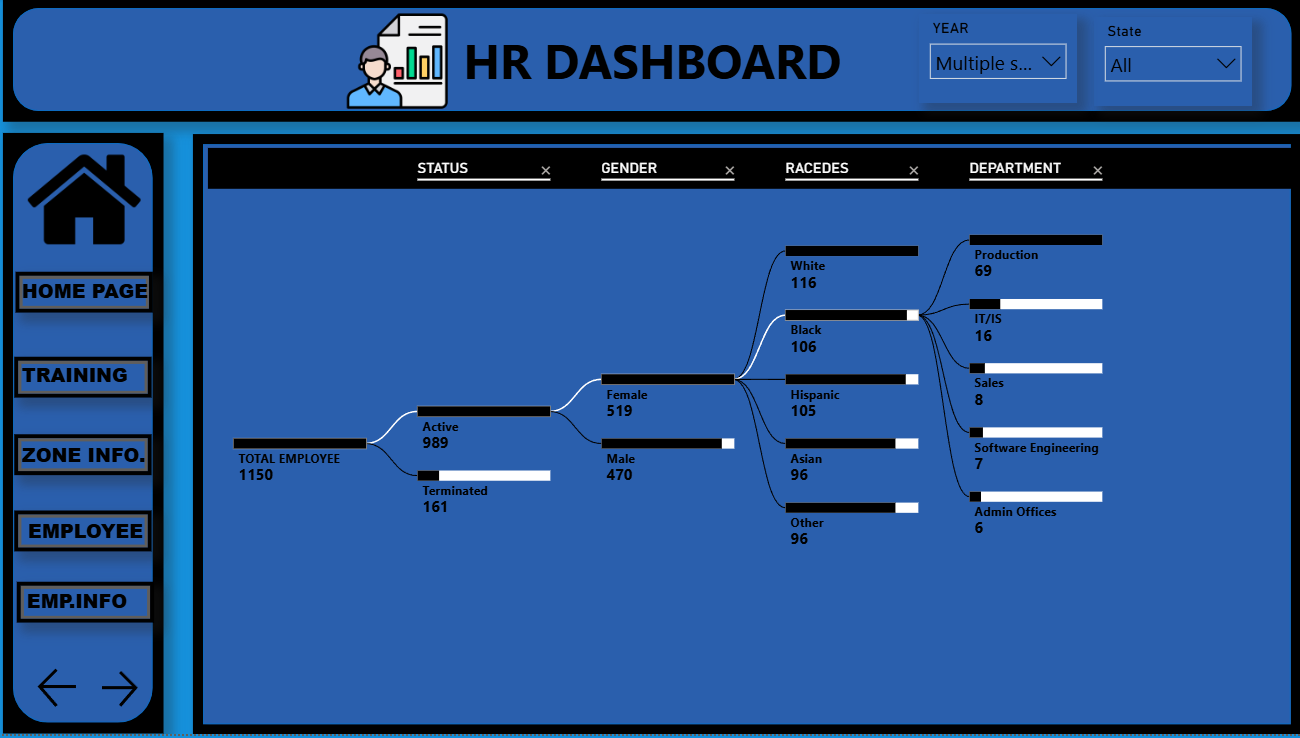

The page's visual inventory and layout, read from the dashboard file:
{"tool":"powerbi","page":{"name":"EMPLOYEE INFORMATION","canvas":[1280,720],"ordinal":4},"visuals":[{"type":"shape","box":[9.3,0,1270.7,120.8],"z":0},{"type":"image","box":[315.8,8.5,160,104.8],"z":1000},{"type":"shape","box":[9.8,132.1,156.5,587],"z":2000},{"type":"shape","box":[196.2,133.1,1084.1,587.3],"z":3000},{"type":"decompositionTreeVisual","fields":{"Analyze":["CountNonNull(HR DATA.Employee ID)"],"ExplainBy":["HR DATA.EmployeeStatus","HR DATA.GenderCode","HR DATA.RaceDesc","HR DATA.DepartmentType"]},"box":[205.4,141.8,1074.9,578.4],"z":4000},{"type":"image","box":[21.4,141.4,134.3,110],"z":5000},{"type":"actionButton","box":[100,652.9,55.7,45.7],"z":6000},{"type":"actionButton","box":[38.6,650,50,48.6],"z":7000},{"type":"actionButton","title":"TRAINING","box":[20.8,351,134.5,40.4],"z":8000},{"type":"actionButton","title":"TRAINING","box":[22,267.8,134.5,40.4],"z":9000},{"type":"actionButton","title":"TRAINING","box":[20.8,426.8,134.5,40.4],"z":10000},{"type":"actionButton","title":"TRAINING","box":[20.8,501.4,134.5,40.4],"z":11000},{"type":"actionButton","title":"TRAINING","box":[23.2,571.1,134.5,40.4],"z":12000},{"type":"textbox","title":"HOME PAGE","box":[23.2,272.7,134.5,28.1],"z":13000},{"type":"textbox","title":"TRAINING","box":[23.2,354.6,113.7,30.6],"z":14000},{"type":"textbox","title":"ZONE INFO.","box":[23.2,432.9,134.5,28.1],"z":15000},{"type":"textbox","title":"EMPLOYEE","box":[29.3,507.5,124.7,28.1],"z":16000},{"type":"textbox","title":"EMP.INFO","box":[28.1,576,121.1,31.8],"z":17000},{"type":"slicer","fields":{"Values":["HR DATA.TRAINING YEAR"]},"box":[905.7,15.7,154.3,87.1],"z":18000},{"type":"slicer","fields":{"Values":["HR DATA.State"]},"box":[1077.1,18.6,154.3,87.1],"z":19000}]}

Visuals, with their boxes in screenshot pixels (x1, y1, x2, y2), scaled from the page's 1280x720 canvas onto the 1300x738 screenshot:
shape: 9/0/1299/124
image: 321/9/483/116
shape: 10/135/169/737
shape: 199/136/1299/737
decompositionTreeVisual - CountNonNull(HR DATA.Employee ID) x HR DATA.EmployeeStatus: 209/145/1299/737
image: 22/145/158/258
actionButton: 102/669/158/716
actionButton: 39/666/90/716
"TRAINING" actionButton: 21/360/158/401
"TRAINING" actionButton: 22/274/159/316
"TRAINING" actionButton: 21/437/158/479
"TRAINING" actionButton: 21/514/158/555
"TRAINING" actionButton: 24/585/160/627
"HOME PAGE" textbox: 24/280/160/308
"TRAINING" textbox: 24/363/139/395
"ZONE INFO." textbox: 24/444/160/473
"EMPLOYEE" textbox: 30/520/156/549
"EMP.INFO" textbox: 29/590/152/623
slicer - HR DATA.TRAINING YEAR: 920/16/1077/105
slicer - HR DATA.State: 1094/19/1251/108
